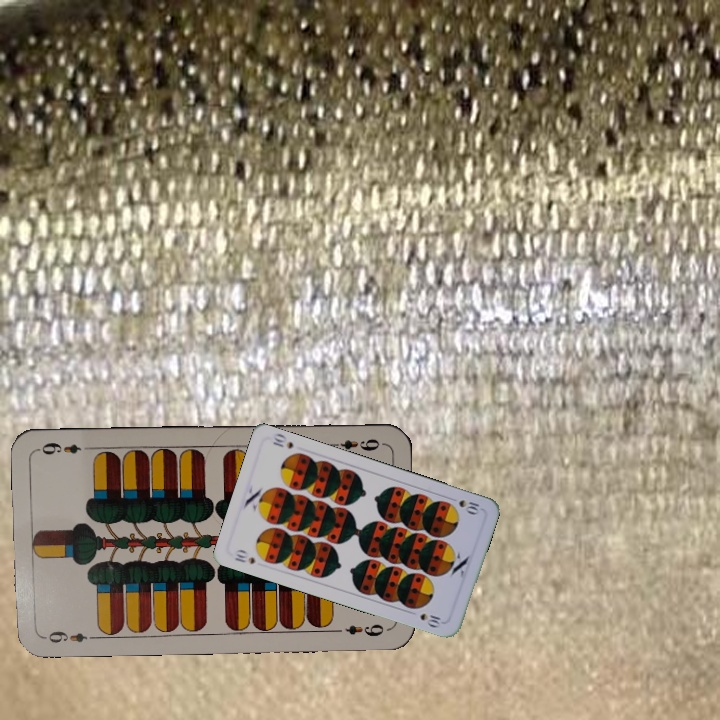E9: (326, 434, 385, 454), (39, 626, 98, 646)
S10: (445, 493, 483, 517), (231, 545, 258, 567)
